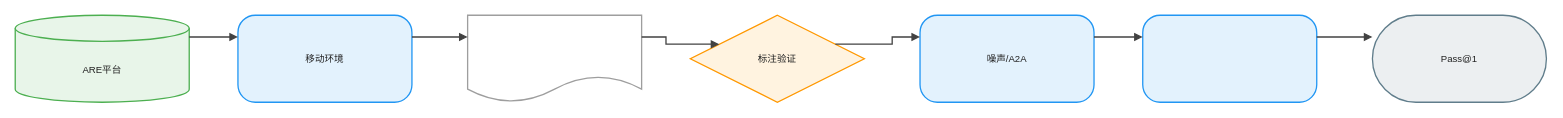
Some shapes in this 1563 by 118 pixel diagram are drawn without their labels. Each missing label, with the box of its shape:
代理运行: (1142, 14, 1317, 102)
场景DAG: (467, 14, 642, 102)
